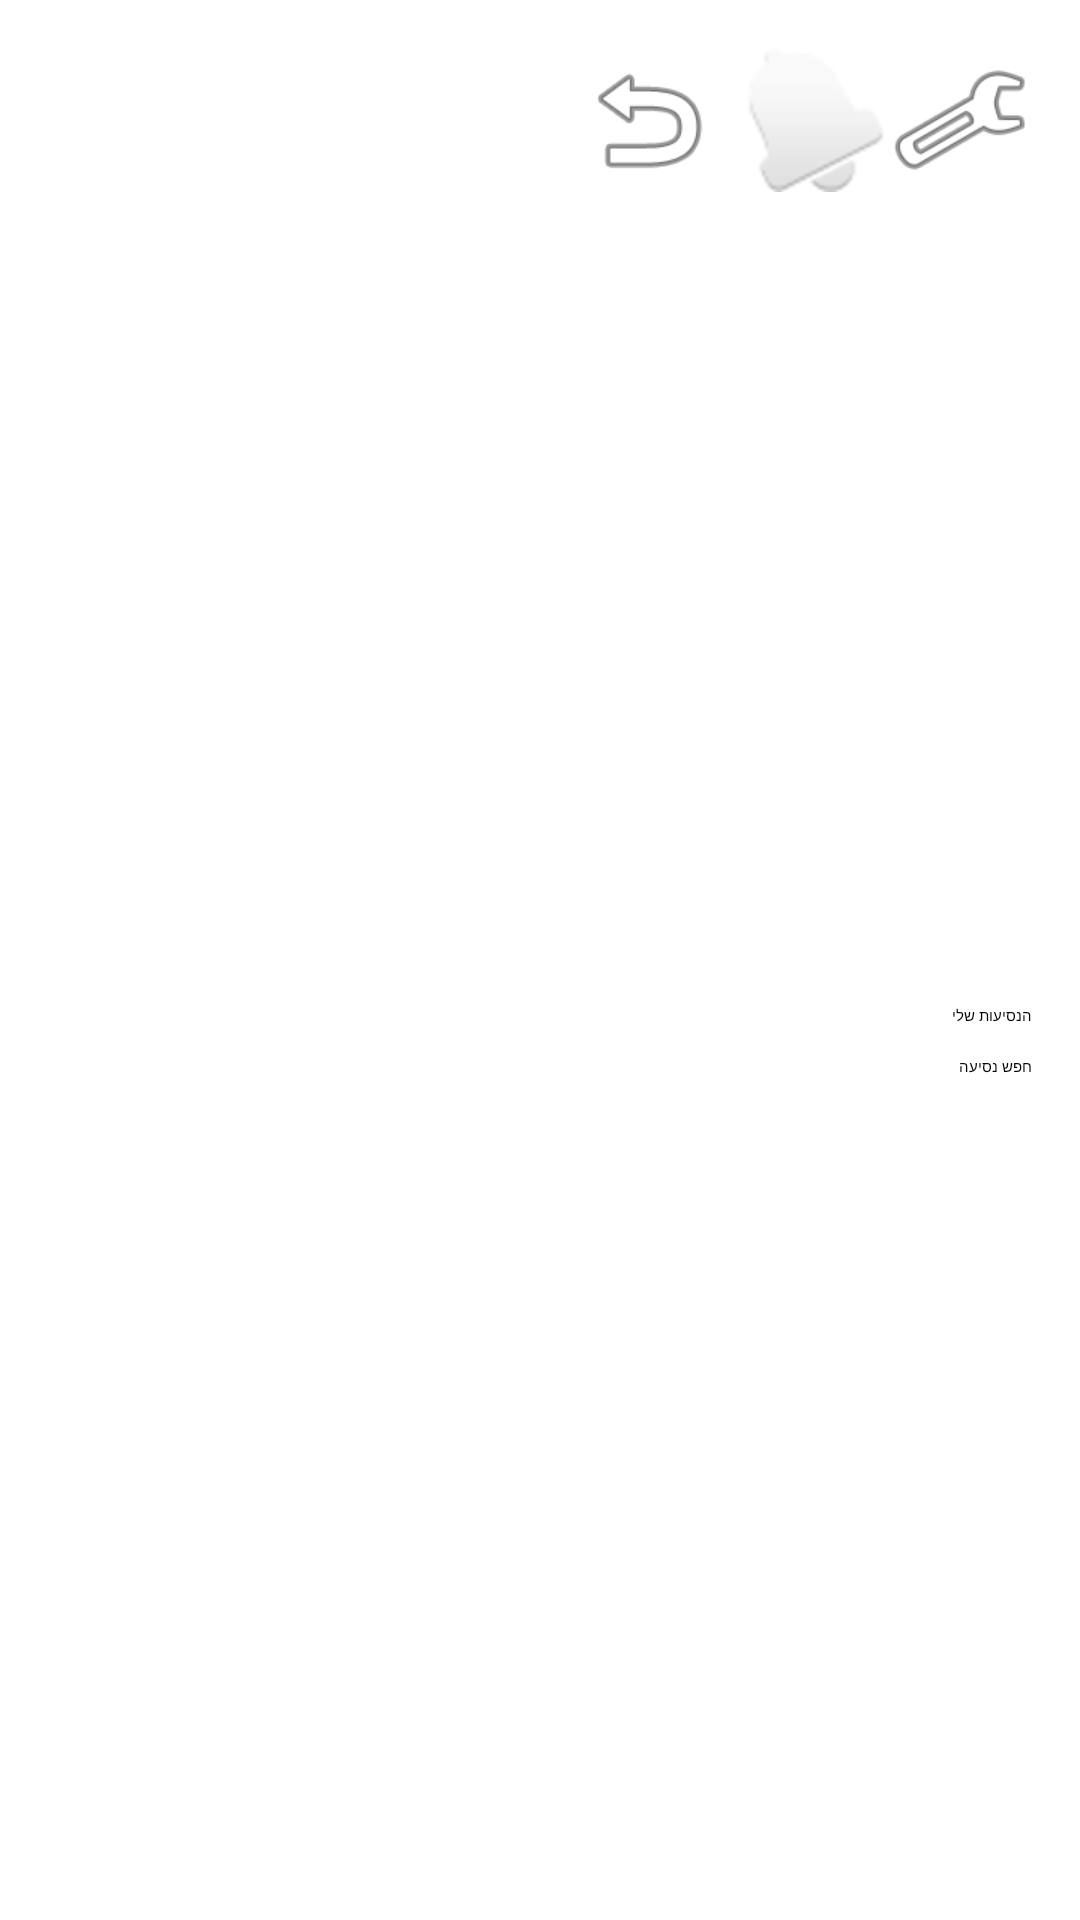

Where icons sit on this 1080px×1920px app screen, as (x1,y1,x2,y2):
הגדרות: (895,70,1025,170)
חזור: (598,74,702,168)
